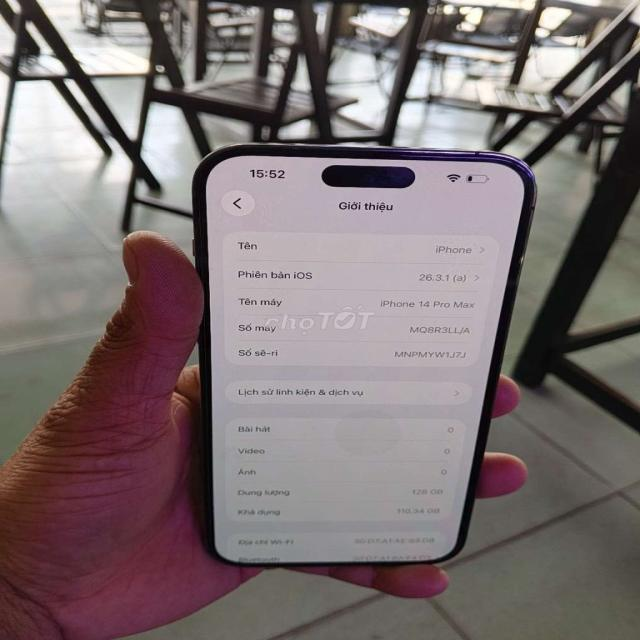gen_14: (186, 141, 526, 561)
